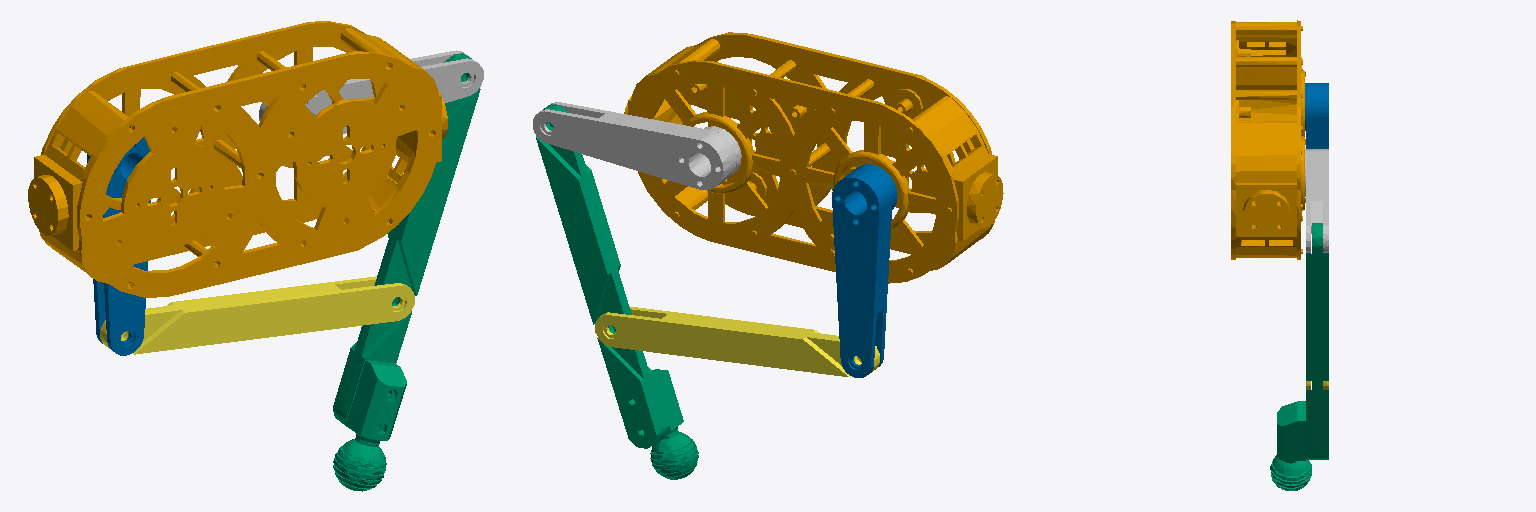
robot.urdf — single_leg:
<?xml version="1.0" ?>
<robot name="single_leg" version="1.0">
    <joint name="joint1" type="revolute">
        <limit lower="-3.14000" upper="3.14000" effort="0.00000" velocity="0.00000"/>
        <origin rpy="-1.57080 0.00000 0.00000" xyz="0.04100 0.01800 0.00003"/>
        <parent link="link0"/>
        <child link="link1"/>
        <axis xyz="0.00000 0.00000 1.00000"/>
    </joint>
    <joint name="joint2" type="revolute">
        <limit lower="-3.14000" upper="3.14000" effort="0.00000" velocity="0.00000"/>
        <origin rpy="-0.00000 0.00000 0.00000" xyz="0.07999 0.00001 0.00825"/>
        <parent link="link1"/>
        <child link="link2"/>
        <axis xyz="0.00000 0.00000 1.00000"/>
    </joint>
    <joint name="joint4" type="revolute">
        <limit lower="-3.14000" upper="3.14000" effort="0.00000" velocity="0.00000"/>
        <origin rpy="-0.00000 0.00000 0.00000" xyz="-0.00001 0.07999 0.00825"/>
        <parent link="link4"/>
        <child link="link3"/>
        <axis xyz="0.00000 0.00000 1.00000"/>
    </joint>
    <joint name="joint5" type="revolute">
        <limit lower="-3.14000" upper="3.14000" effort="0.00000" velocity="0.00000"/>
        <origin rpy="-1.57080 0.00000 0.00000" xyz="-0.04100 0.01800 -0.00000"/>
        <parent link="link0"/>
        <child link="link4"/>
        <axis xyz="0.00000 0.00000 1.00000"/>
    </joint>
    <link name="link0">
        <inertial>
            <inertia ixx="0.00010" ixy="0.00000" ixz="-0.00001" iyy="0.00059" iyz="-0.00000" izz="0.00053"/>
            <origin rpy="0.00000 0.00000 0.00000" xyz="-0.00003 -0.00190 -0.00002"/>
            <mass value="0.20000"/>
        </inertial>
        <visual name="link0_visual">
            <origin rpy="0.00000 0.00000 0.00000" xyz="0.00000 0.00000 0.00000"/>
            <geometry>
                <mesh filename="../meshes/stl/link0.stl" scale="1.00000 1.00000 1.00000"/>
            </geometry>
        </visual>
        <collision name="link0_collision">
            <origin rpy="0.00000 0.00000 0.00000" xyz="0.00000 0.00000 0.00000"/>
            <geometry>
                <mesh filename="../meshes/stl/link0.stl" scale="1.00000 1.00000 1.00000"/>
            </geometry>
        </collision>
    </link>
    <link name="link1">
        <inertial>
            <inertia ixx="0.00001" ixy="-0.00002" ixz="-0.00000" iyy="0.00022" iyz="-0.00000" izz="0.00021"/>
            <origin rpy="0.00000 0.00000 0.00000" xyz="0.02888 0.00002 0.00661"/>
            <mass value="0.20000"/>
        </inertial>
        <visual name="link1_visual">
            <origin rpy="1.57080 0.00000 0.00000" xyz="0.00000 0.00000 0.00000"/>
            <material name="leg_linkage"/>
            <geometry>
                <mesh filename="../meshes/stl/link1.stl" scale="1.00000 1.00000 1.00000"/>
            </geometry>
        </visual>
        <collision name="link1_collision">
            <origin rpy="1.57080 0.00000 0.00000" xyz="0.00000 0.00000 0.00000"/>
            <geometry>
                <mesh filename="../meshes/stl/link1.stl" scale="1.00000 1.00000 1.00000"/>
            </geometry>
        </collision>
    </link>
    <link name="link2">
        <inertial>
            <inertia ixx="0.00053" ixy="-0.00002" ixz="-0.00018" iyy="0.00058" iyz="-0.00005" izz="0.00008"/>
            <origin rpy="0.00000 0.00000 0.00000" xyz="-0.03247 0.09410 -0.00380"/>
            <mass value="0.20000"/>
        </inertial>
        <visual name="link2_visual">
            <origin rpy="1.57080 0.00000 0.00000" xyz="-0.03281 0.09447 0.00000"/>
            <geometry>
                <mesh filename="../meshes/stl/link2.stl" scale="1.00000 1.00000 1.00000"/>
            </geometry>
        </visual>
        <collision name="link2_collision">
            <origin rpy="1.57080 0.00000 0.00000" xyz="-0.03281 0.09447 0.00000"/>
            <geometry>
                <mesh filename="../meshes/stl/link2.stl" scale="1.00000 1.00000 1.00000"/>
            </geometry>
        </collision>
    </link>
    <link name="link3">
        <inertial>
            <inertia ixx="0.00001" ixy="-0.00000" ixz="0.00003" iyy="0.00032" iyz="0.00000" izz="0.00032"/>
            <origin rpy="0.00000 0.00000 0.00000" xyz="0.06459 0.00733 0.00000"/>
            <mass value="0.20000"/>
        </inertial>
        <visual name="link3_visual">
            <origin rpy="1.57080 0.00000 0.00000" xyz="0.12919 0.01447 -0.00000"/>
            <geometry>
                <mesh filename="../meshes/stl/link3.stl" scale="1.00000 1.00000 1.00000"/>
            </geometry>
        </visual>
        <collision name="link3_collision">
            <origin rpy="1.57080 0.00000 0.00000" xyz="0.12919 0.01447 -0.00000"/>
            <geometry>
                <mesh filename="../meshes/stl/link3.stl" scale="1.00000 1.00000 1.00000"/>
            </geometry>
        </collision>
    </link>
    <link name="link4">
        <inertial>
            <inertia ixx="0.00018" ixy="-0.00000" ixz="0.00000" iyy="0.00019" iyz="0.00001" izz="0.00001"/>
            <origin rpy="0.00000 0.00000 0.00000" xyz="-0.00001 0.02888 0.00661"/>
            <mass value="0.20000"/>
        </inertial>
        <visual name="link4_visual">
            <origin rpy="1.57080 0.00000 0.00000" xyz="-0.00001 0.07999 0.00825"/>
            <geometry>
                <mesh filename="../meshes/stl/link4.stl" scale="1.00000 1.00000 1.00000"/>
            </geometry>
        </visual>
        <collision name="link4_collision">
            <origin rpy="1.57080 0.00000 0.00000" xyz="-0.00001 0.07999 0.00825"/>
            <geometry>
                <mesh filename="../meshes/stl/link4.stl" scale="1.00000 1.00000 1.00000"/>
            </geometry>
        </collision>
    </link>
    <material name="leg_linkage">
        <color rgba="0.80000 0.80000 0.80000 1.00000"/>
    </material>
</robot>

--- Facts derived from the render (not from the file) ---
Views: 3 orthographic renders of the robot side by side, from view 1: azimuth 30°, elevation 25°; view 2: azimuth 150°, elevation 25°; view 3: azimuth 270°, elevation 25°.
Model single_leg with 5 links and 4 joints (4 revolute), rooted at link0, posed all joints at 0.
Links seen in each view (by area): view 1: link0, link2, link3, link4, link1; view 2: link0, link2, link4, link1, link3; view 3: link0, link2, link1, link4.
Link boxes in pixels (x1,y1,x2,y2): link0: [28, 21, 447, 297]; link2: [333, 53, 480, 491]; link3: [100, 276, 414, 354]; link4: [87, 137, 150, 355]; link1: [259, 50, 483, 133]; link0: [624, 32, 1003, 283]; link2: [536, 104, 698, 479]; link4: [832, 164, 897, 377]; link1: [533, 102, 741, 189]; link3: [595, 306, 879, 376]; link0: [1231, 20, 1305, 259]; link2: [1270, 223, 1328, 490]; link1: [1305, 149, 1328, 252]; link4: [1305, 83, 1328, 253].
Size in the robot's own frame: 0.2219 by 0.0508 by 0.2156 metres.
5 mesh visuals loaded from 5 distinct referenced files (5 binary STL).